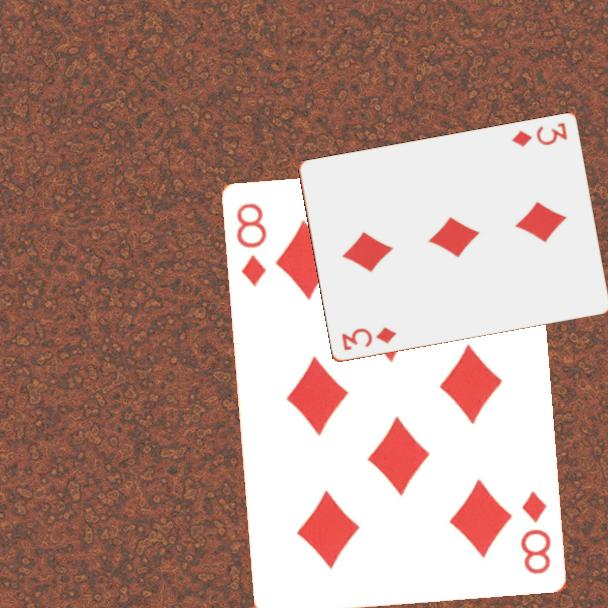d03: (508, 119, 570, 150), (338, 324, 399, 354)
d08: (517, 487, 555, 578), (233, 200, 270, 290)
